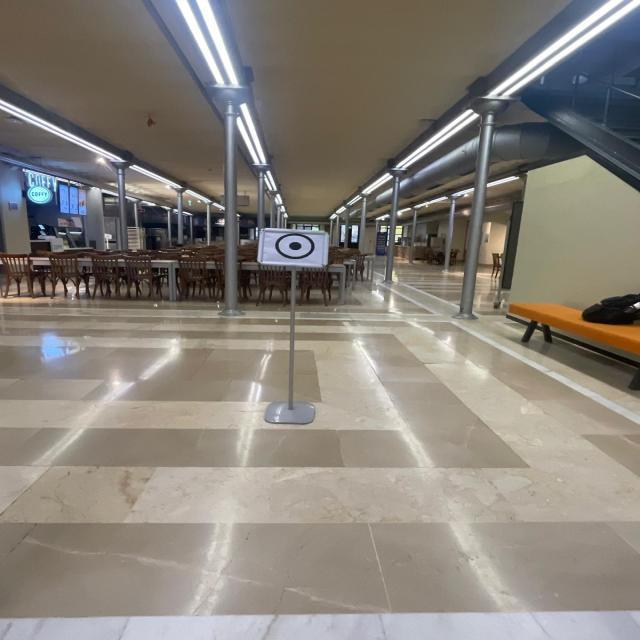Target: (250, 216, 336, 276)
inner: (289, 238, 303, 254)
